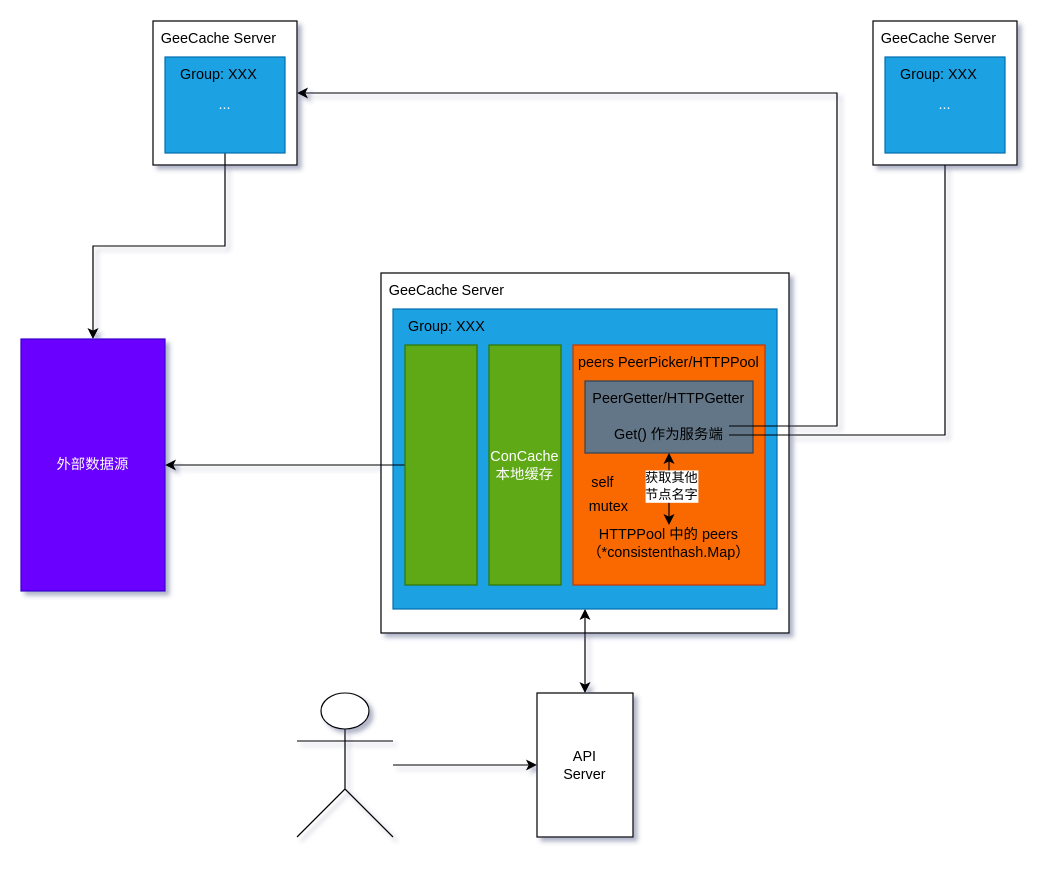
The diagram is 1045 pixels wide and 890 high, and some of its shapes have lost their labels. Each missing label, with the centre of its shape:
"Getter 从外部获取缓存" goes at point (440, 464).
"User" goes at point (344, 764).
